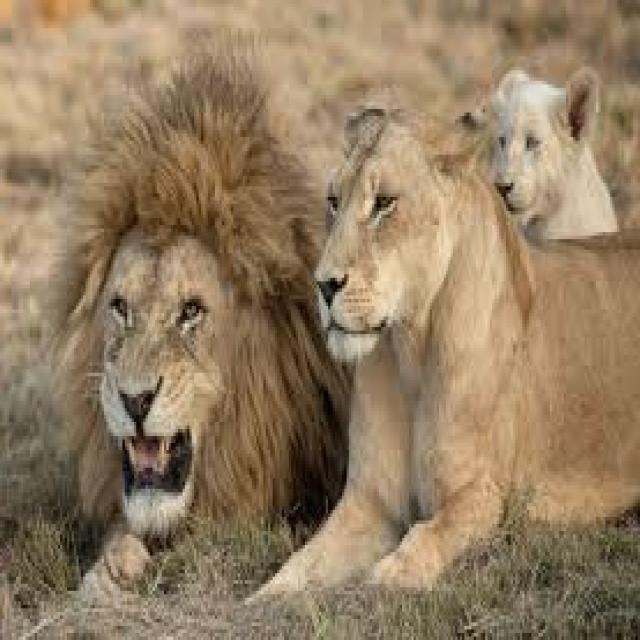lion: (259, 105, 640, 594), (53, 49, 347, 535), (492, 67, 619, 236)
